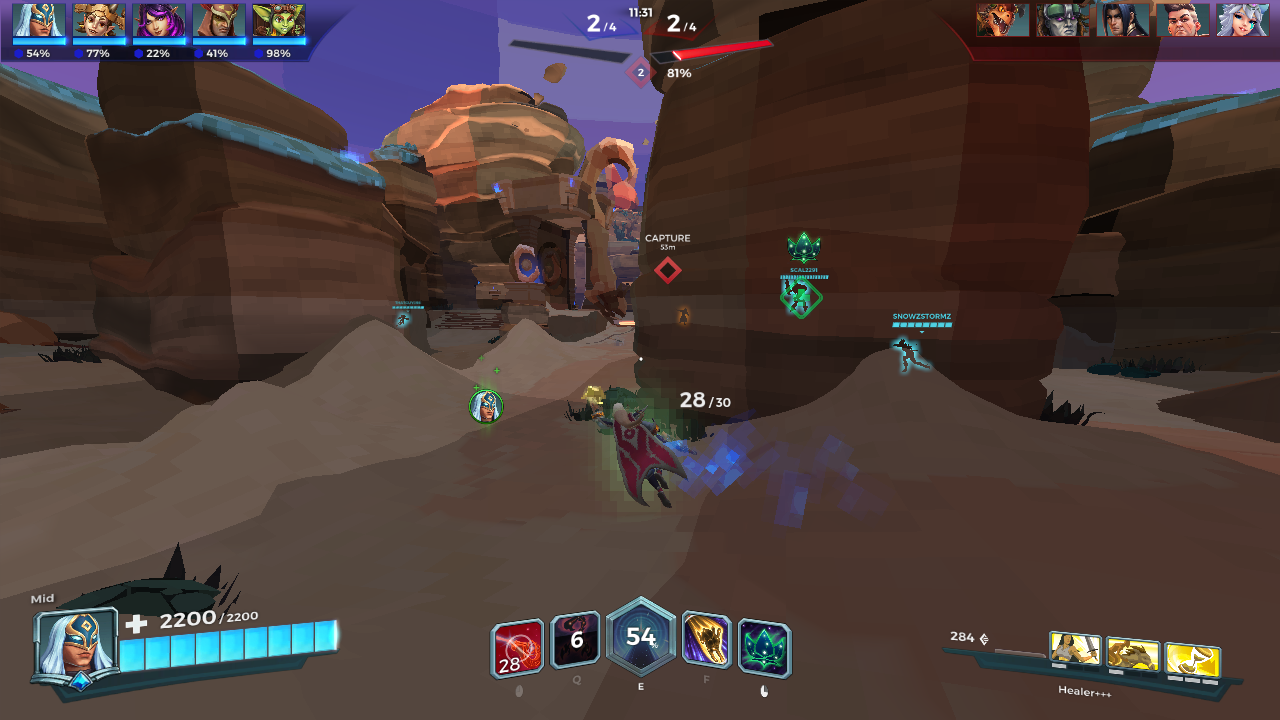model: (675, 301, 694, 330)
